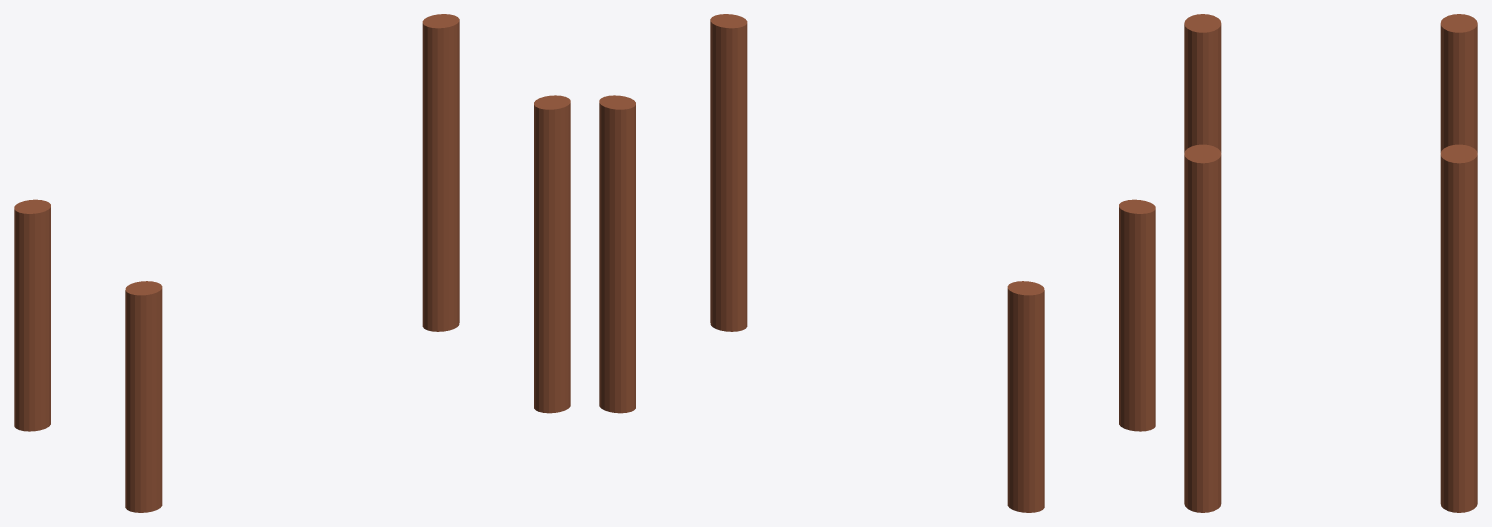
File: bedposts.obj
3 renders of one model, left to right at view 1: azimuth 30°, elevation 25°; view 2: azimuth 150°, elevation 25°; view 3: azimuth 270°, elevation 25°, orthographic. The views are drawn at different scales.
Visible parts, largest first — view 1: user; view 2: user; view 3: user.
Part boxes in pixels (x1,y1,x2,y2): user: [14, 14, 570, 512]; user: [599, 14, 1155, 512]; user: [1184, 14, 1477, 512].
Size of the model in its own units: 114 by 74.8 by 56.88.
Materials: 1 (1 with a texture image).
